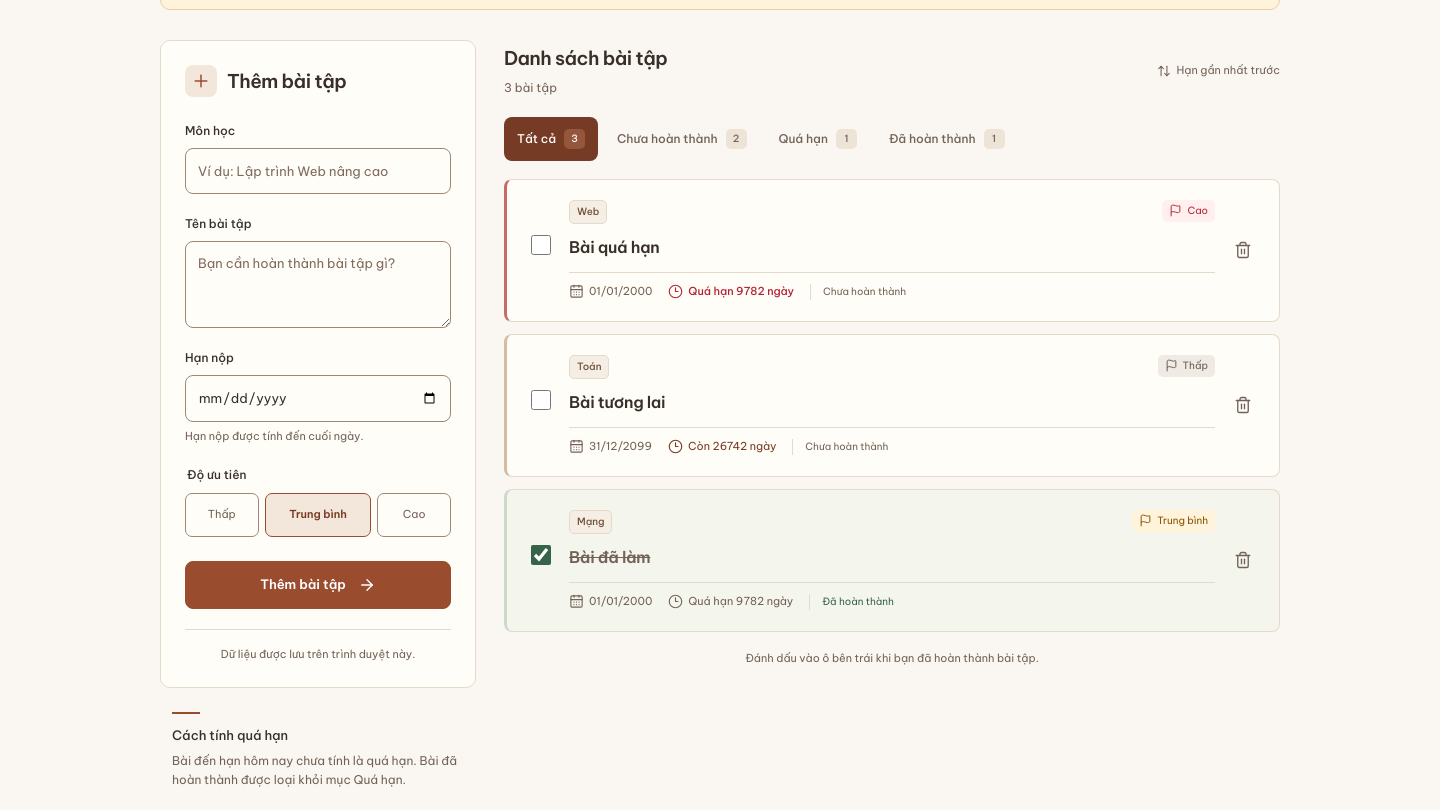
Test: assignment interface › deletes an assignment from its accessible action
(page scrolled)
Expected: the heading "Bài tương lai" is shown, [569,392,665,412]
Click the button named "Xoá bài tập: Bài tương lai" at (1243, 405), box [1221,383,1265,427]
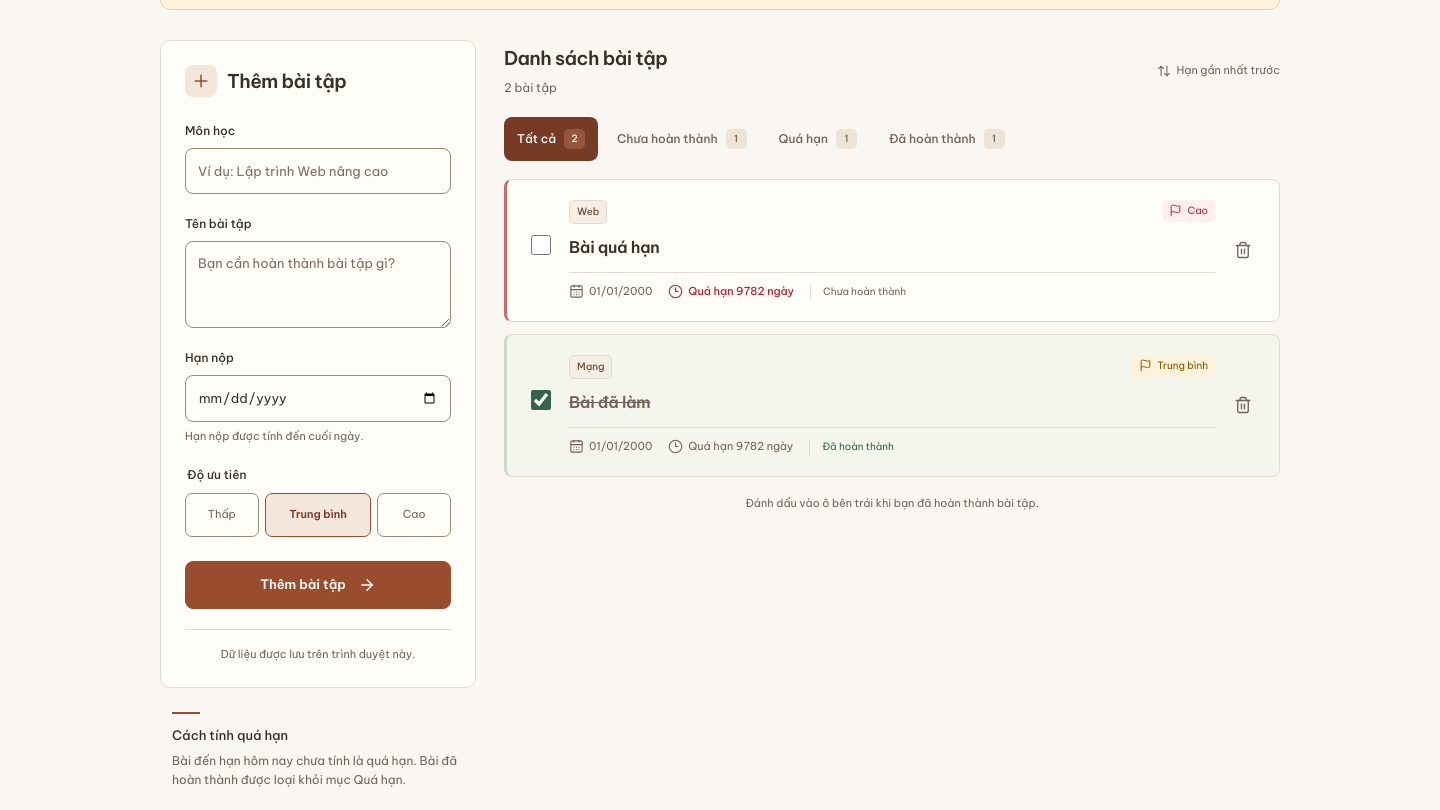
Expected: the heading "Bài tương lai" is gone
